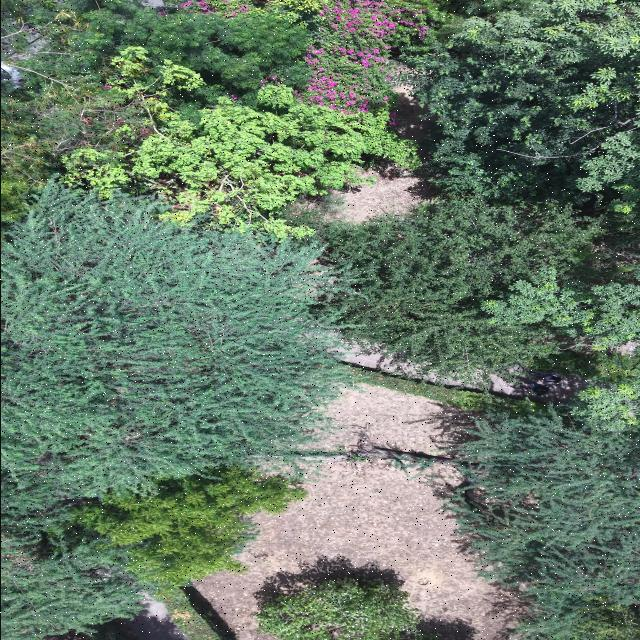DRY_AREA: (195, 460, 520, 639), (195, 460, 519, 639), (292, 165, 433, 222), (312, 165, 437, 222), (317, 164, 435, 222), (326, 167, 423, 222), (488, 371, 587, 402), (124, 596, 187, 639)
VEGETATION_TREE: (1, 0, 639, 639), (1, 0, 416, 639), (1, 0, 346, 639), (1, 181, 348, 639), (401, 0, 639, 639), (345, 0, 639, 378), (1, 182, 347, 496), (3, 0, 416, 237), (346, 378, 639, 639), (1, 0, 310, 220), (64, 45, 417, 237), (65, 85, 417, 237), (3, 467, 305, 639), (402, 0, 639, 217), (324, 200, 602, 380), (448, 396, 639, 639), (451, 406, 639, 604), (1, 0, 149, 221), (76, 467, 306, 584), (65, 0, 310, 101), (1, 507, 142, 639), (307, 0, 438, 112), (483, 268, 638, 349), (257, 578, 435, 639), (350, 365, 526, 410), (520, 599, 639, 639), (155, 587, 229, 639), (536, 349, 639, 385), (571, 378, 639, 430), (178, 0, 322, 16), (43, 620, 136, 639), (439, 0, 528, 18), (179, 0, 217, 12)
